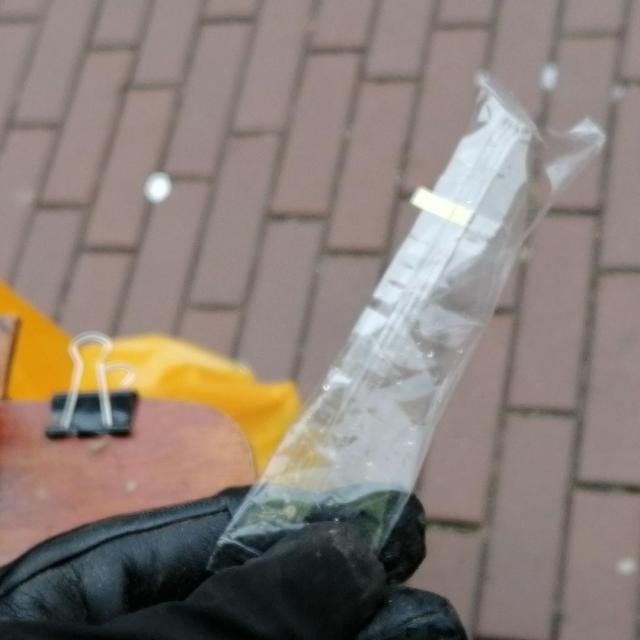Plastic: (202, 59, 609, 584)
